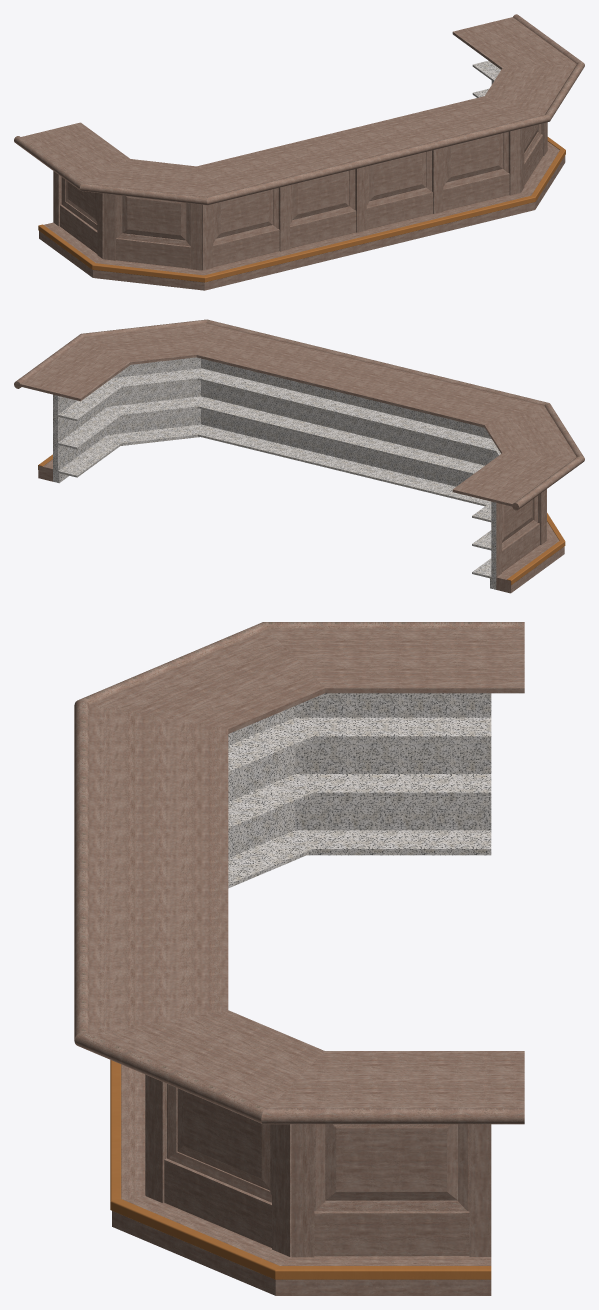
Rendered from wooden_bar.glb.
3 views of the same model, one above another, from view 1: azimuth 30°, elevation 25°; view 2: azimuth 150°, elevation 25°; view 3: azimuth 270°, elevation 25° (orthographic). The views are drawn at different scales.
Parts seen in each view (by area): view 1: Material2 (×3); view 2: Material2 (×3); view 3: Material2 (×3).
Boxes of the visible parts, box(x1,y1,x2,y2) form: Material2 (×3): box(14, 14, 584, 290); Material2 (×3): box(14, 319, 584, 593); Material2 (×3): box(74, 622, 524, 1295).
Size of the model in its own units: 211 by 39.74 by 81.34.
Materials: 3 (3 with a texture image).
